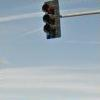Traffic light: (37, 0, 74, 49)
